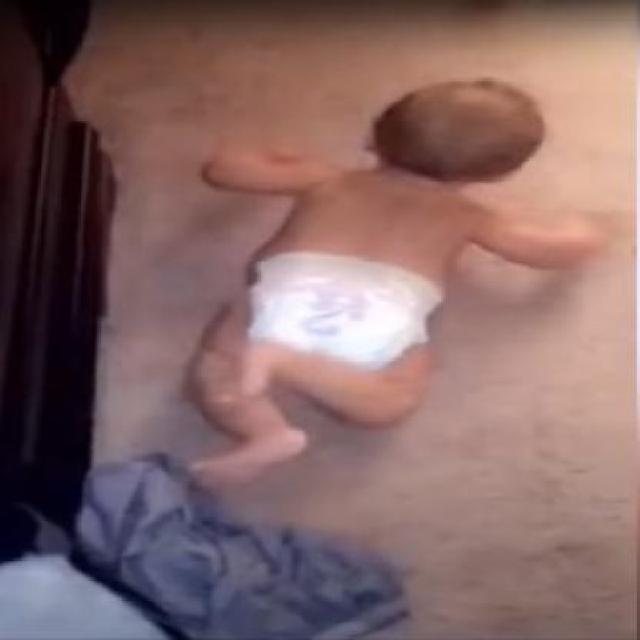baby: (186, 76, 605, 487)
